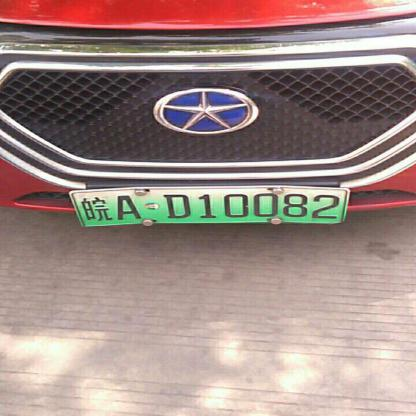lp: (72, 191, 345, 227)
